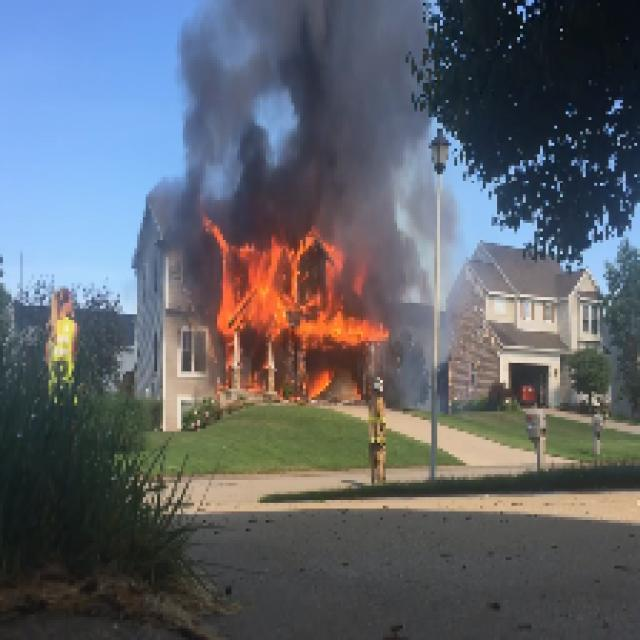Fire: (214, 237, 366, 334)
Smoke: (177, 3, 426, 206), (386, 208, 428, 382)
